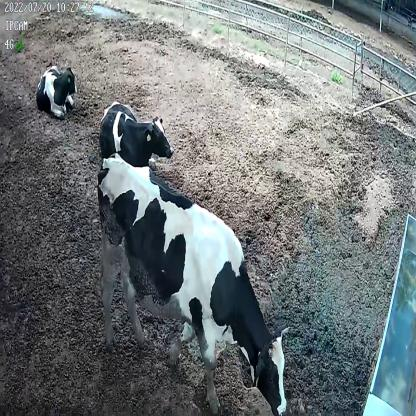cow: (94, 154, 287, 416), (99, 99, 173, 167), (35, 58, 80, 119)
